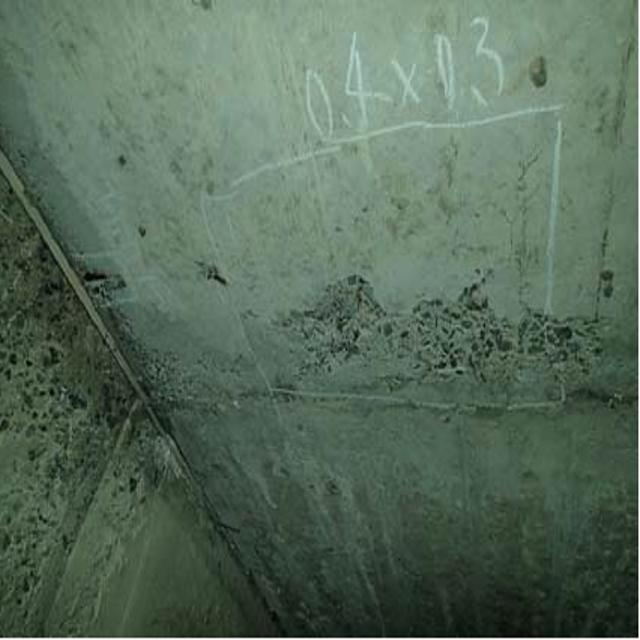spalling: (290, 277, 619, 392)
